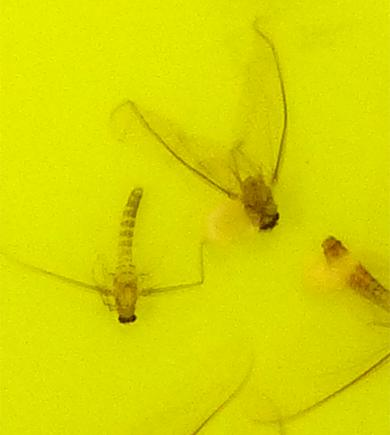Ephemeroptera: (177, 100, 290, 236), (100, 174, 155, 335)
